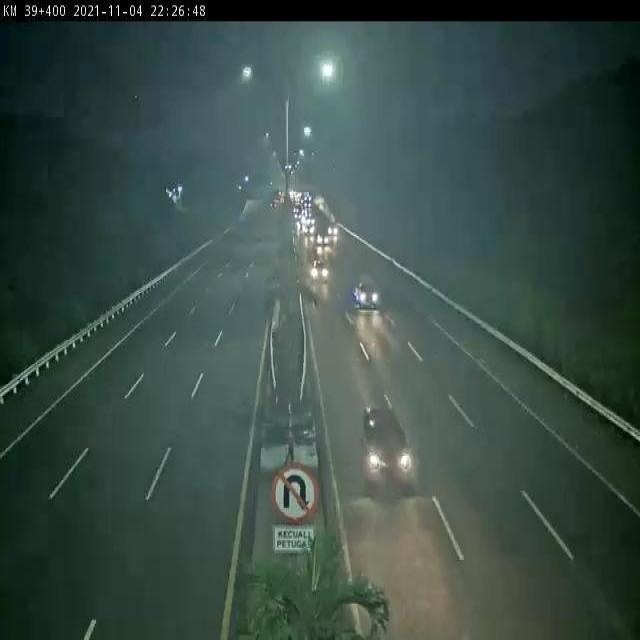Car: (360, 407, 415, 494), (354, 272, 381, 312), (308, 257, 328, 283)
